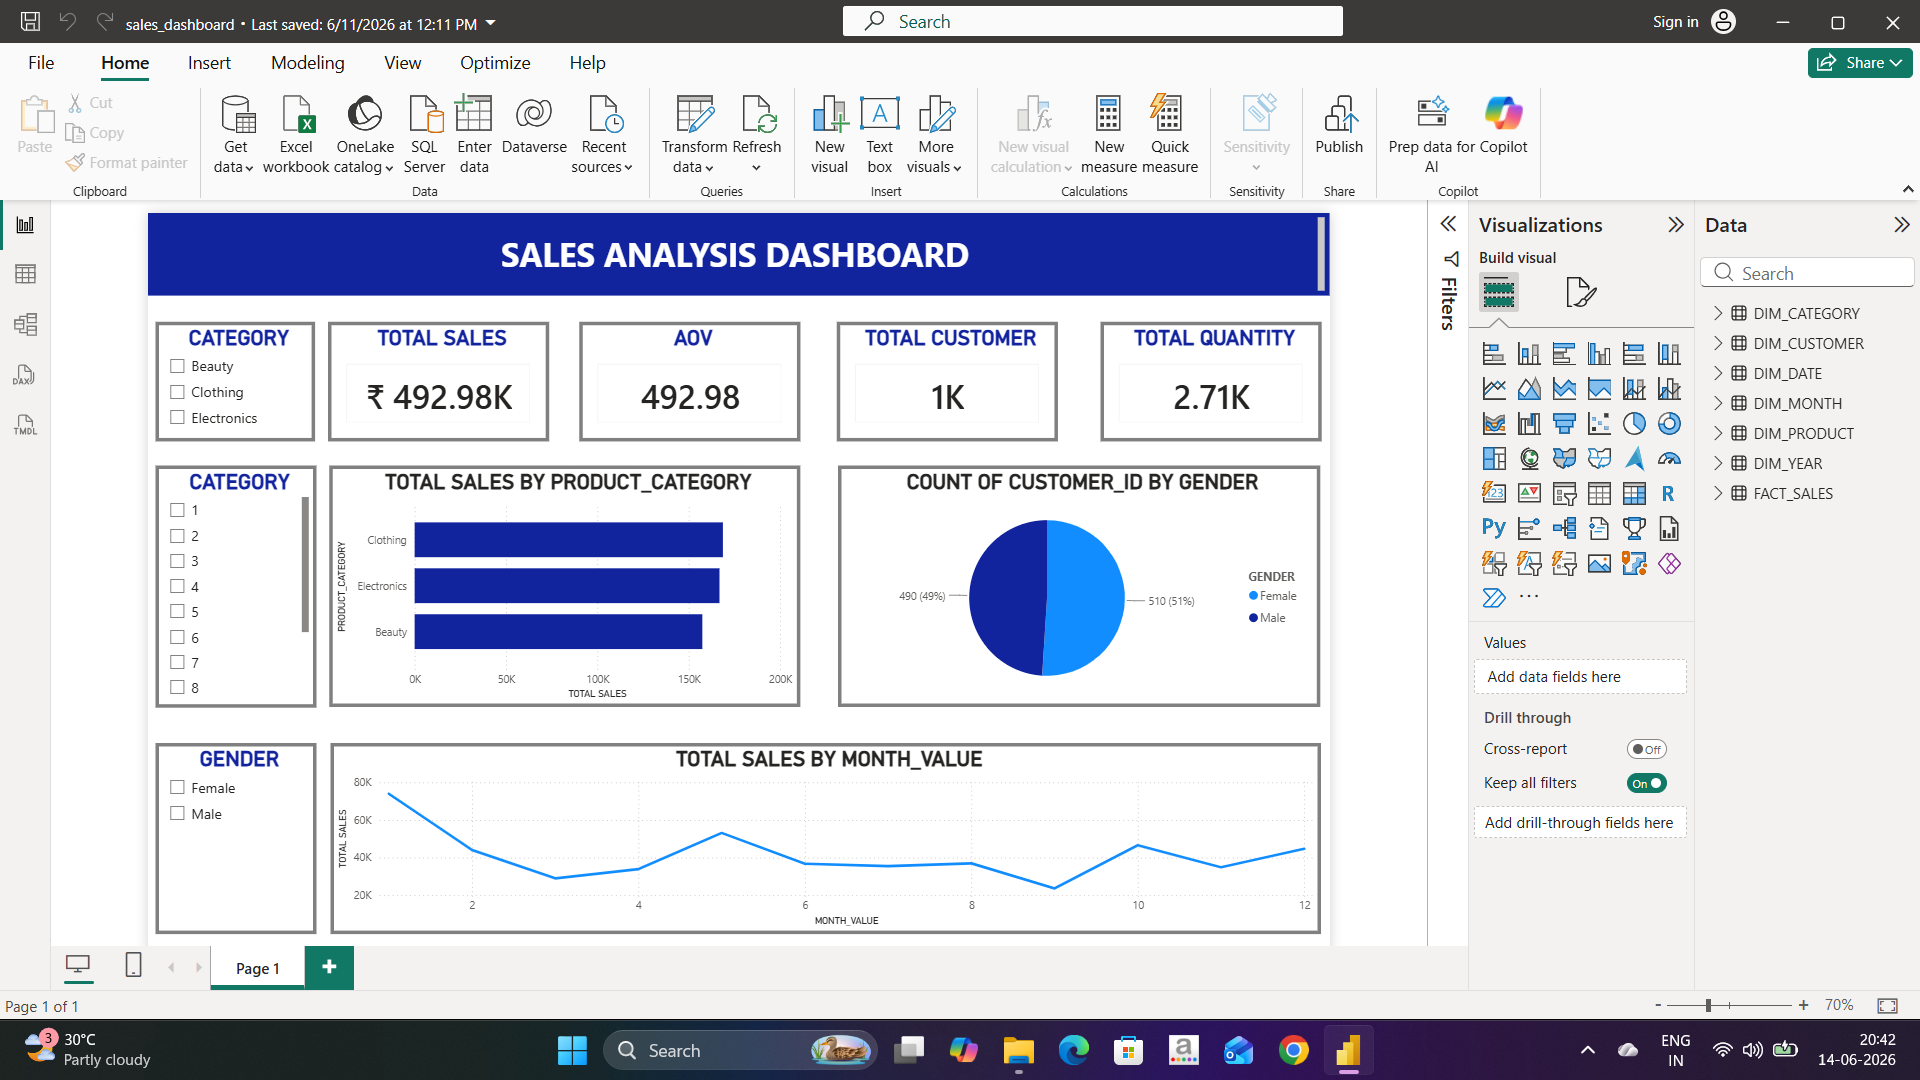

This screenshot's page, from the dashboard's own definition file:
{"tool":"powerbi","page":{"name":"Page 1","canvas":[1350,850],"ordinal":0},"visuals":[{"type":"group","id":"g1","title":"Group 1","box":[204.8,124,1134.1,137.1],"z":0,"group":"g2"},{"type":"cardVisual","title":"TOTAL SALES","fields":{"Data":["FACT_SALES.TOTAL SALES"]},"box":[204.8,124,252.7,136.8],"z":0,"group":"g1"},{"type":"lineChart","title":"TOTAL SALES BY MONTH_VALUE","fields":{"Category":["DIM_MONTH.MONTH_VALUE"],"Y":["FACT_SALES.TOTAL SALES"]},"box":[208,606,1132,218],"z":0},{"type":"cardVisual","title":"AOV","fields":{"Data":["DIM_CATEGORY.AOV"]},"box":[491.5,124,252.7,136.8],"z":1000,"group":"g1"},{"type":"clusteredBarChart","title":"TOTAL SALES BY PRODUCT_CATEGORY","fields":{"Category":["DIM_CATEGORY.PRODUCT_CATEGORY"],"Y":["FACT_SALES.TOTAL SALES"]},"box":[206.9,288.6,538.4,276],"z":1000,"group":"g3"},{"type":"cardVisual","title":"TOTAL CUSTOMER","fields":{"Data":["DIM_CATEGORY.TOTAL ORDERS"]},"box":[786.1,124,252.7,136.8],"z":2000,"group":"g1"},{"type":"pieChart","title":"COUNT OF CUSTOMER_ID BY GENDER","fields":{"Category":["DIM_CUSTOMER.GENDER"],"Y":["CountNonNull(DIM_CUSTOMER.CUSTOMER_ID)"]},"box":[787.7,288.6,551.2,276],"z":2000,"group":"g3"},{"type":"textbox","title":"SALES ANALYSIS DASHBOARD","box":[0,0,1350,94.3],"z":3000},{"type":"cardVisual","title":"TOTAL QUANTITY","fields":{"Data":["DIM_CATEGORY.TOTAL QUANTITY"]},"box":[1087.3,124,252.7,136.8],"z":3000,"group":"g1"},{"type":"slicer","title":"CATEGORY","fields":{"Values":["DIM_MONTH.MONTH_VALUE"]},"box":[8,288,184.3,277.1],"z":4000,"group":"g4"},{"type":"slicer","title":"CATEGORY","fields":{"Values":["DIM_CATEGORY.PRODUCT_CATEGORY"]},"box":[8,124,182.6,137.1],"z":5000,"group":"g2"},{"type":"slicer","title":"GENDER","fields":{"Values":["DIM_CUSTOMER.GENDER"]},"box":[8,606,184,218],"z":5000},{"type":"group","id":"g2","title":"Group 2","box":[8,124,1330,136],"z":6000},{"type":"group","id":"g3","title":"Group 3","box":[206.9,288.6,1132,276],"z":6001,"group":"g4"},{"type":"group","id":"g4","title":"Group 4","box":[8,288,1330,276],"z":6002}]}

Visuals, with their boxes on the page's 1350x850 design canvas (x1, y1, x2, y2). These are canvas units, not pixel positions in the 1920x1080 screenshot, which may show the page scaled, cropped or inside an application window:
"Group 1" group: pyautogui.locateOnScreen(205, 124, 1339, 261)
"TOTAL SALES" cardVisual: pyautogui.locateOnScreen(205, 124, 458, 261)
"TOTAL SALES BY MONTH_VALUE" lineChart: pyautogui.locateOnScreen(208, 606, 1340, 824)
"AOV" cardVisual: pyautogui.locateOnScreen(492, 124, 744, 261)
"TOTAL SALES BY PRODUCT_CATEGORY" clusteredBarChart: pyautogui.locateOnScreen(207, 289, 745, 565)
"TOTAL CUSTOMER" cardVisual: pyautogui.locateOnScreen(786, 124, 1039, 261)
"COUNT OF CUSTOMER_ID BY GENDER" pieChart: pyautogui.locateOnScreen(788, 289, 1339, 565)
"SALES ANALYSIS DASHBOARD" textbox: pyautogui.locateOnScreen(0, 0, 1350, 94)
"TOTAL QUANTITY" cardVisual: pyautogui.locateOnScreen(1087, 124, 1340, 261)
"CATEGORY" slicer: pyautogui.locateOnScreen(8, 288, 192, 565)
"CATEGORY" slicer: pyautogui.locateOnScreen(8, 124, 191, 261)
"GENDER" slicer: pyautogui.locateOnScreen(8, 606, 192, 824)
"Group 2" group: pyautogui.locateOnScreen(8, 124, 1338, 260)
"Group 3" group: pyautogui.locateOnScreen(207, 289, 1339, 565)
"Group 4" group: pyautogui.locateOnScreen(8, 288, 1338, 564)
